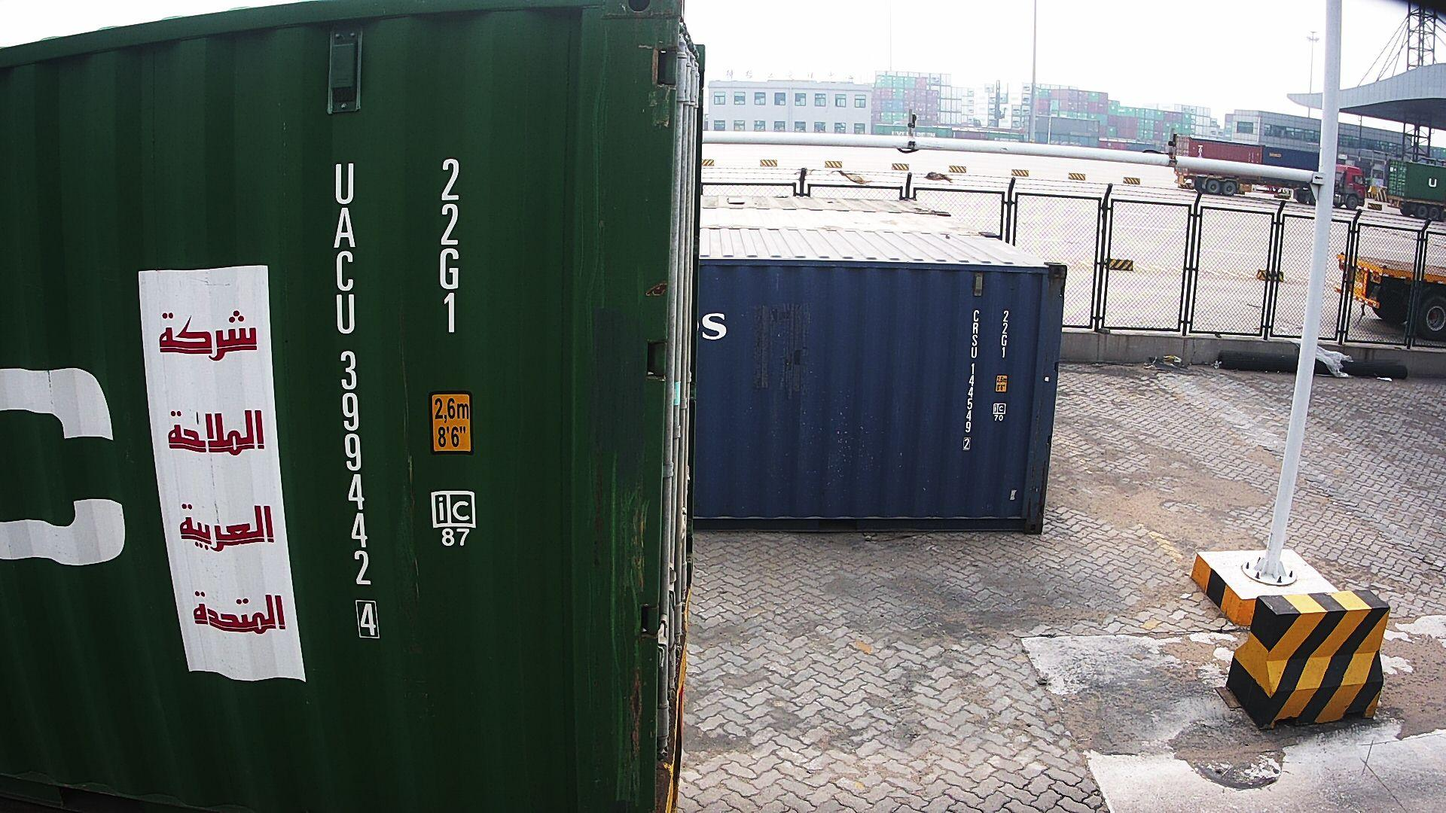container-numbers: (326, 155, 384, 644), (432, 155, 469, 340), (958, 306, 980, 455), (1000, 308, 1011, 358)
